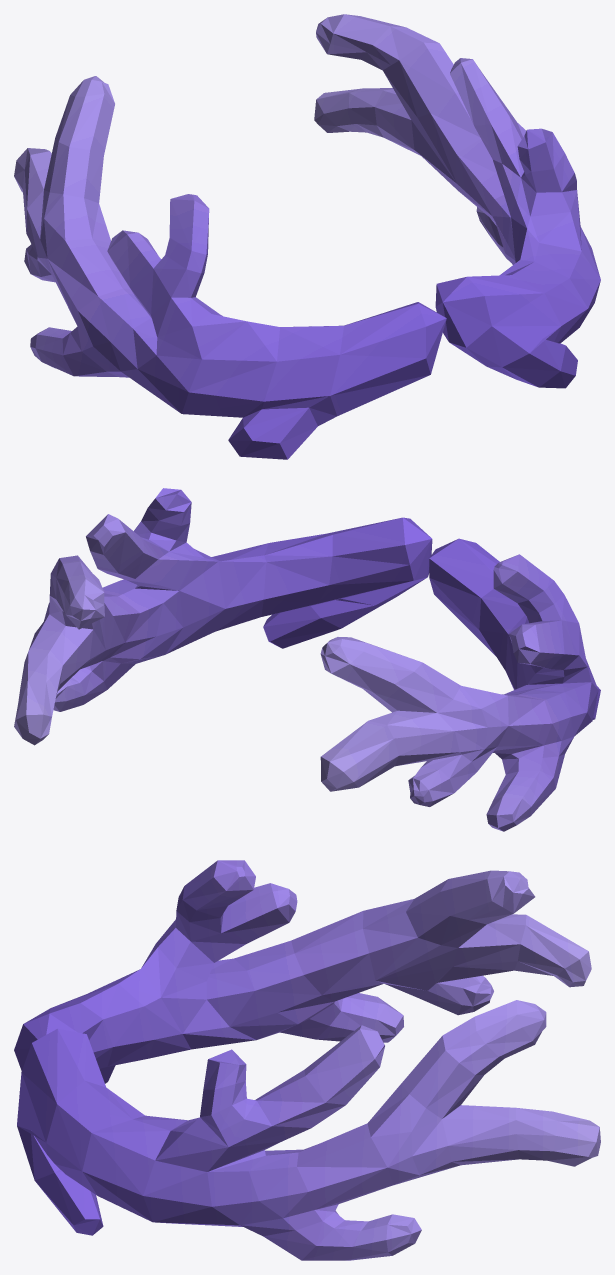
Rendered from CharSkyNPC_Hat_PurpleCoral.glb.
3 views of the same model, one above another, from view 1: azimuth 30°, elevation 25°; view 2: azimuth 150°, elevation 25°; view 3: azimuth 270°, elevation 25° (orthographic). The views are drawn at different scales.
Visible parts, largest first — view 1: CharSkyNPC_Hat_PurpleCoral; view 2: CharSkyNPC_Hat_PurpleCoral; view 3: CharSkyNPC_Hat_PurpleCoral.
Part boxes in pixels (left/top/right/bottom): CharSkyNPC_Hat_PurpleCoral: left=14, top=14, right=600, bottom=459; CharSkyNPC_Hat_PurpleCoral: left=14, top=488, right=600, bottom=831; CharSkyNPC_Hat_PurpleCoral: left=14, top=860, right=600, bottom=1260.
Size of the model in its own units: 3.06 by 1.33 by 3.03.
1 material, 1 textured.
